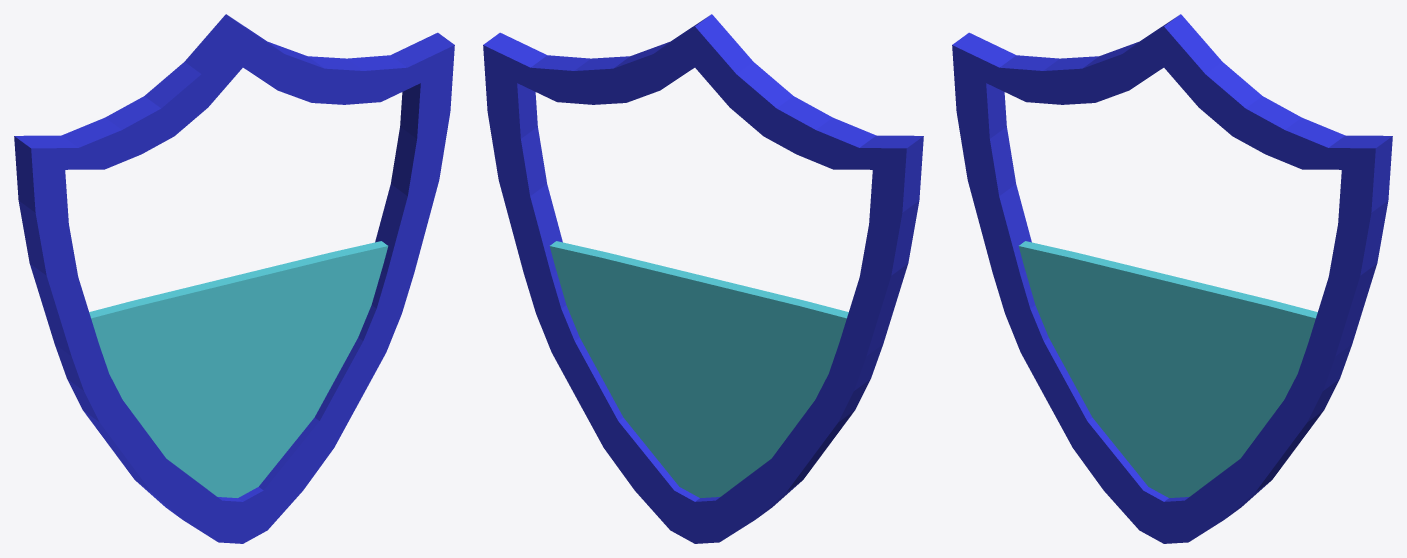
Rendered from HalfShield.fbx.
The picture shows the model from 3 angles, left to right: view 1: azimuth 30°, elevation 25°; view 2: azimuth 150°, elevation 25°; view 3: azimuth 330°, elevation 25°; orthographic projection.
Parts seen in each view (by area): view 1: Plane, Plane.001; view 2: Plane, Plane.001; view 3: Plane, Plane.001.
Part boxes in pixels (<box>): Plane: <box>14,14,454,543</box>; Plane.001: <box>89,241,388,497</box>; Plane: <box>483,14,923,543</box>; Plane.001: <box>549,241,848,497</box>; Plane: <box>952,14,1392,543</box>; Plane.001: <box>1018,241,1317,497</box>.
Size of the model in its own units: 76.49 by 89.27 by 5.33.
